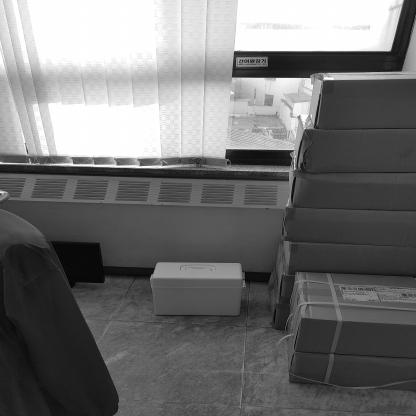DDL: (150, 262, 246, 316)
